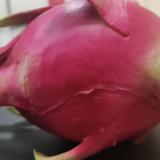pitaya: (1, 1, 160, 160)
